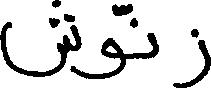X: (0, 0, 81, 81), (174, 24, 210, 87), (102, 0, 126, 83), (148, 28, 158, 63)
